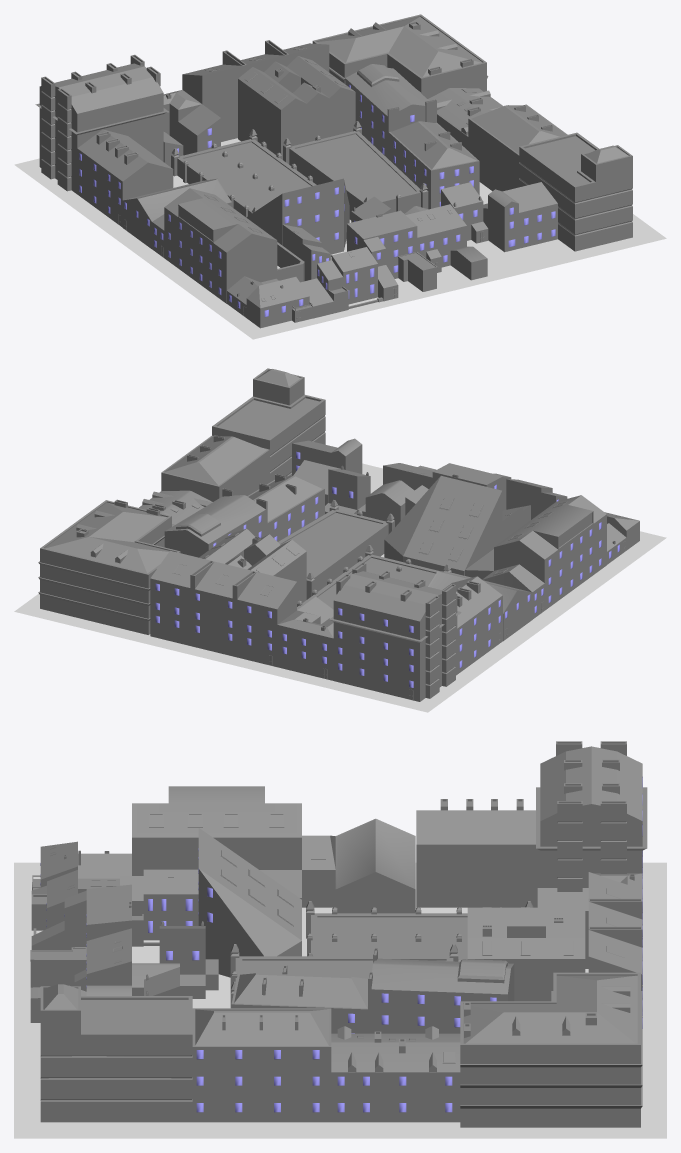
Rendered from block_2.FBX.
3 views of the same model, one above another, from view 1: azimuth 30°, elevation 25°; view 2: azimuth 150°, elevation 25°; view 3: azimuth 270°, elevation 25° (orthographic). The views are drawn at different scales.
Visible parts, largest first — view 1: Plane017, h_16, h_4, h_22, h_9, h_13, h_8, h_7, h_6, h_17, h_23, h_11 (+12 smaller); view 2: h_16, h_13, h_14, h_4, h_6, Plane017, h_22, h_23, h_8, h_10, h_15, h_9 (+11 smaller); view 3: h_13, Plane017, h_22, h_23, h_4, h_16, h_6, h_17, h_12, h_10, h_9, h_7 (+11 smaller).
Part boxes in pixels (x1,y1,x2,y2): Plane017: (14, 138, 666, 339); h_16: (35, 54, 167, 193); h_4: (152, 188, 304, 303); h_22: (519, 132, 632, 251); h_9: (238, 56, 355, 159); h_13: (312, 14, 488, 98); h_8: (283, 121, 428, 220); h_7: (171, 129, 316, 217); h_6: (246, 178, 349, 280); h_17: (77, 129, 173, 227); h_23: (468, 104, 567, 191); h_11: (388, 121, 479, 209); h_16: (329, 562, 461, 701); h_13: (38, 499, 180, 634); h_14: (150, 550, 296, 666); h_4: (465, 495, 606, 619); h_6: (384, 475, 530, 575); Plane017: (14, 463, 666, 712); h_22: (212, 368, 325, 482); h_23: (161, 435, 269, 501); h_8: (278, 500, 394, 599); h_10: (164, 488, 267, 557); h_15: (277, 596, 333, 680); h_9: (199, 528, 306, 602); h_13: (460, 972, 642, 1127); Plane017: (14, 862, 666, 1138); h_22: (40, 984, 192, 1122); h_23: (192, 1008, 331, 1122); h_4: (132, 786, 335, 907); h_16: (536, 741, 647, 891); h_6: (120, 828, 301, 977); h_17: (416, 799, 540, 907); h_12: (331, 1026, 460, 1122); h_10: (368, 948, 514, 1033); h_9: (467, 907, 585, 1001); h_7: (306, 901, 533, 961).
Bounding box in the file's own units: 100 × 21.98 × 100.
